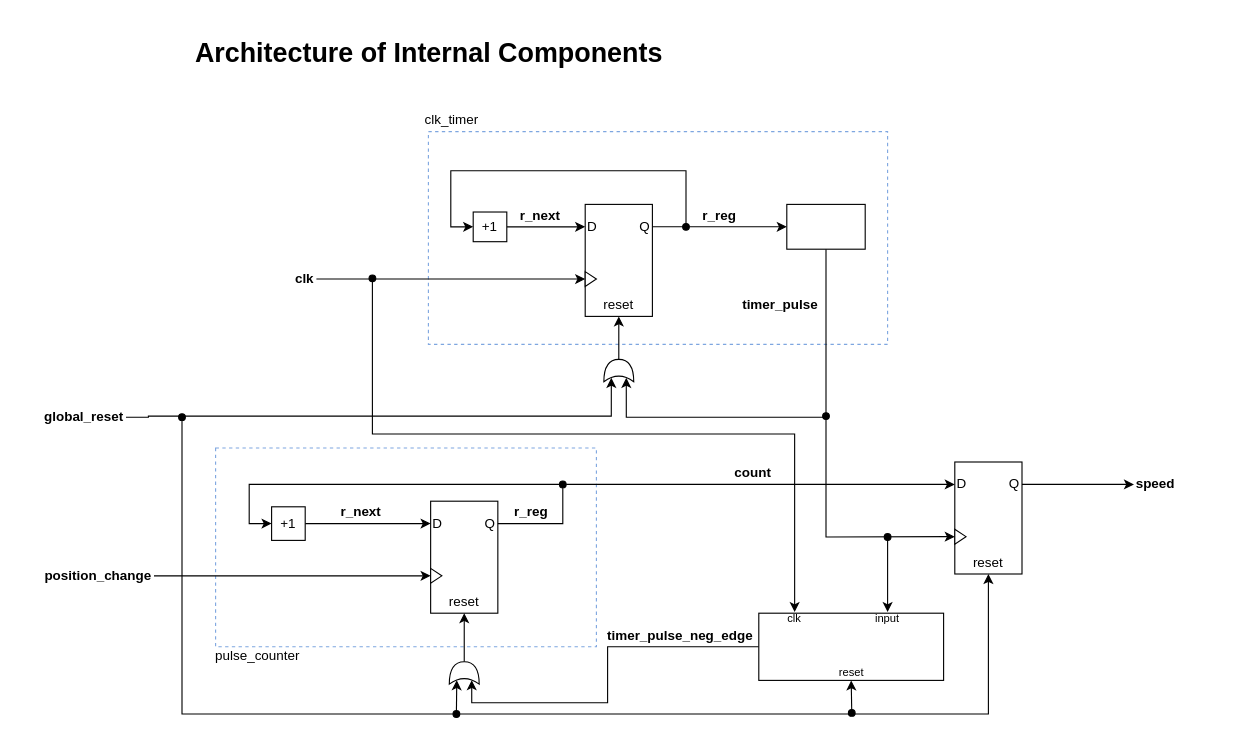
This 1253x744 diagram has some shape labels left out. The shapes that lost their labels are listed below. From the top down, each one's box as (x1, y1, x2, y2) in pixels, then its label:
(786, 203, 865, 249): = f * 10 -3
(758, 612, 944, 680): neg_edge_detector
